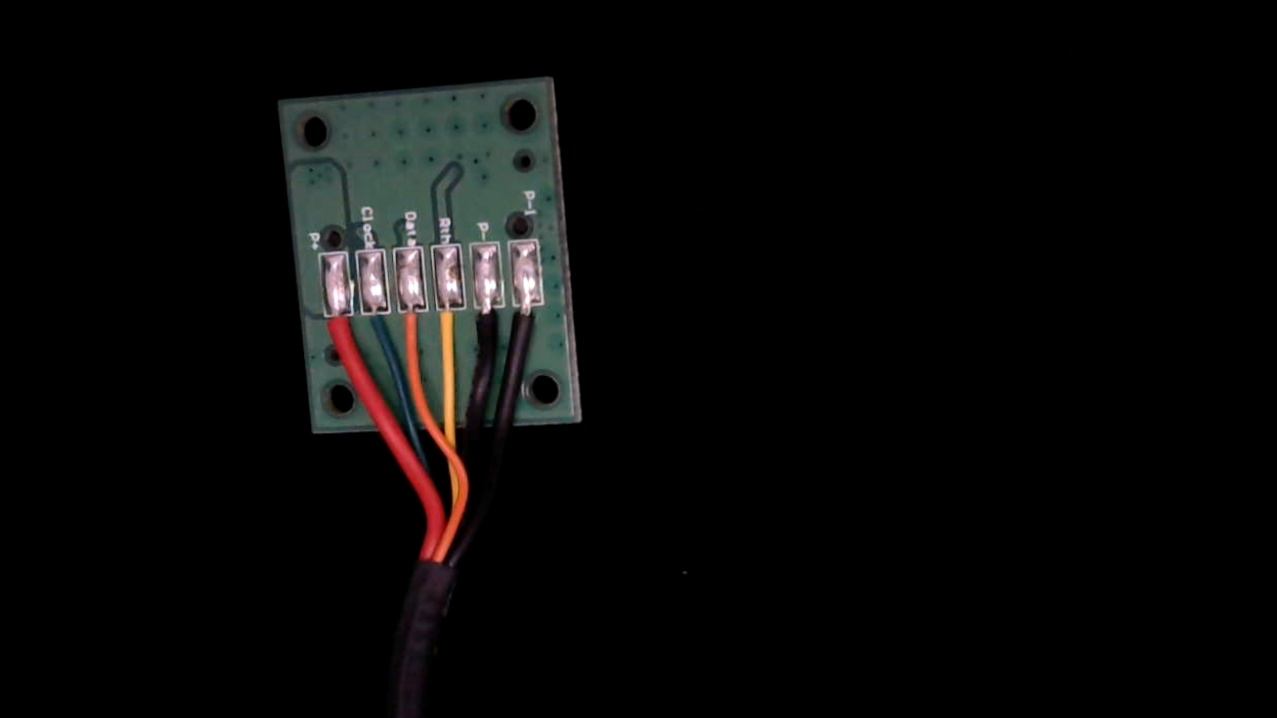Black: (473, 292, 501, 357)
Black1: (510, 292, 543, 355)
Green: (357, 300, 396, 347)
Orange: (395, 298, 428, 351)
Red: (318, 301, 357, 346)
Yellow: (434, 294, 466, 351)
